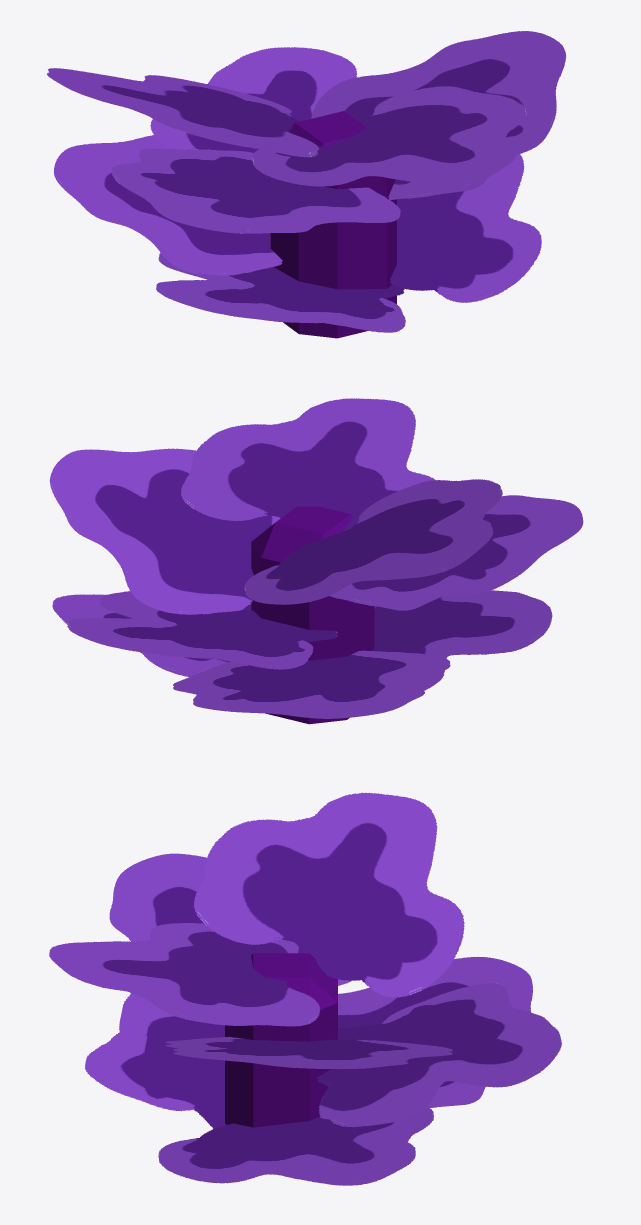
Rendered from CoralA.fbx.
3 views of the same model, one above another, from view 1: azimuth 30°, elevation 25°; view 2: azimuth 150°, elevation 25°; view 3: azimuth 270°, elevation 25° (orthographic). The views are drawn at different scales.
Visible parts, largest first — view 1: CoralAGroup1; view 2: CoralAGroup1; view 3: CoralAGroup1.
Boxes of the visible parts, bbox=[...] form: CoralAGroup1: bbox=[47, 31, 566, 338]; CoralAGroup1: bbox=[49, 398, 583, 724]; CoralAGroup1: bbox=[49, 792, 561, 1185].
Bounding box in the file's own units: 1.07 × 0.4984 × 1.05.
4 materials, 3 textured.
